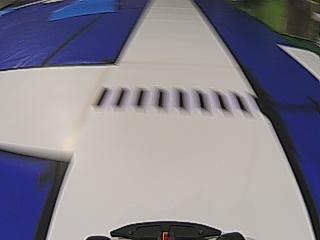CrossWalk: (93, 87, 247, 116)
